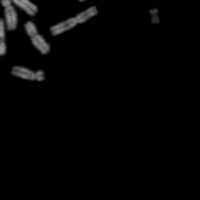chromosome: (51, 5, 97, 36), (24, 20, 49, 54), (0, 0, 38, 14), (11, 66, 43, 81), (1, 0, 16, 30), (0, 18, 5, 55), (150, 9, 160, 24), (75, 0, 92, 2)
